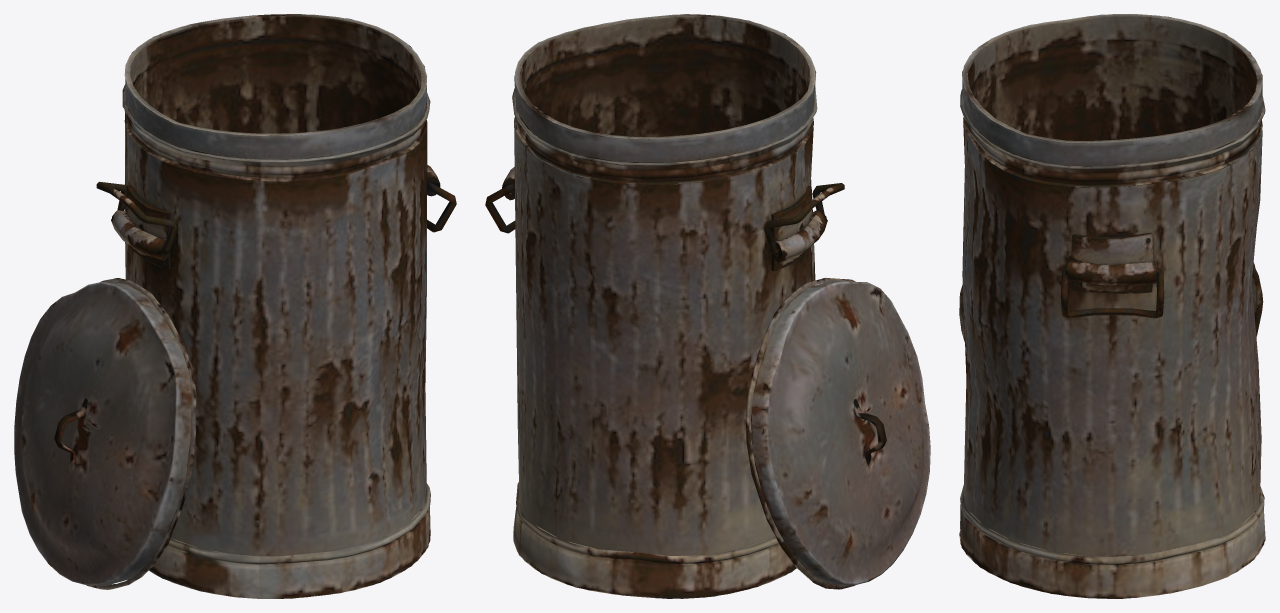
The model's file is distance.fbx.
3 views of the same model, side by side, from view 1: azimuth 30°, elevation 25°; view 2: azimuth 150°, elevation 25°; view 3: azimuth 270°, elevation 25° (orthographic).
Visible parts, largest first — view 1: metal_trash_can_rust, metal_trash_can_rust_lid, metal_trash_can_rust_handle_left, metal_trash_can_rust_handle_right; view 2: metal_trash_can_rust, metal_trash_can_rust_lid, metal_trash_can_rust_handle_left, metal_trash_can_rust_handle_right; view 3: metal_trash_can_rust, metal_trash_can_rust_handle_right, metal_trash_can_rust_lid.
Part boxes in pixels (x1,y1,x2,y2): metal_trash_can_rust: (111, 14, 440, 598); metal_trash_can_rust_lid: (14, 278, 196, 589); metal_trash_can_rust_handle_left: (96, 181, 177, 254); metal_trash_can_rust_handle_right: (427, 182, 456, 232); metal_trash_can_rust: (502, 14, 827, 598); metal_trash_can_rust_lid: (746, 277, 930, 589); metal_trash_can_rust_handle_left: (764, 183, 844, 255); metal_trash_can_rust_handle_right: (485, 184, 515, 233); metal_trash_can_rust: (959, 14, 1265, 598); metal_trash_can_rust_handle_right: (1060, 268, 1164, 318); metal_trash_can_rust_lid: (959, 263, 1263, 341).
Bounding box in the file's own units: 77.38 × 90.63 × 54.89.
